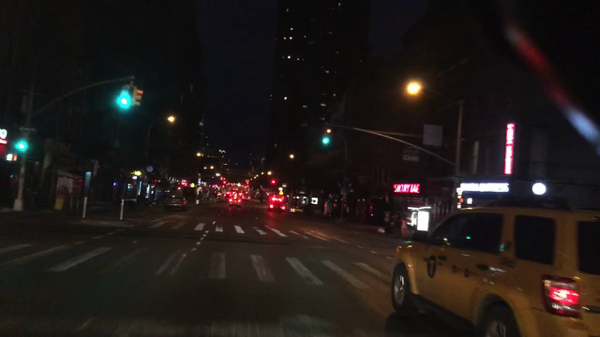car: (389, 200, 598, 337), (164, 195, 188, 211), (268, 197, 285, 213), (228, 195, 242, 207), (216, 193, 227, 202), (263, 192, 274, 200), (242, 191, 250, 202), (255, 190, 263, 199), (235, 192, 242, 198), (226, 191, 230, 195)
traffic light: (119, 84, 130, 109), (133, 87, 144, 107), (322, 129, 331, 147), (17, 140, 30, 151), (4, 153, 14, 162), (270, 178, 277, 185), (14, 154, 17, 162)
traffic sign: (422, 124, 444, 148), (401, 149, 421, 162), (18, 125, 37, 134)
